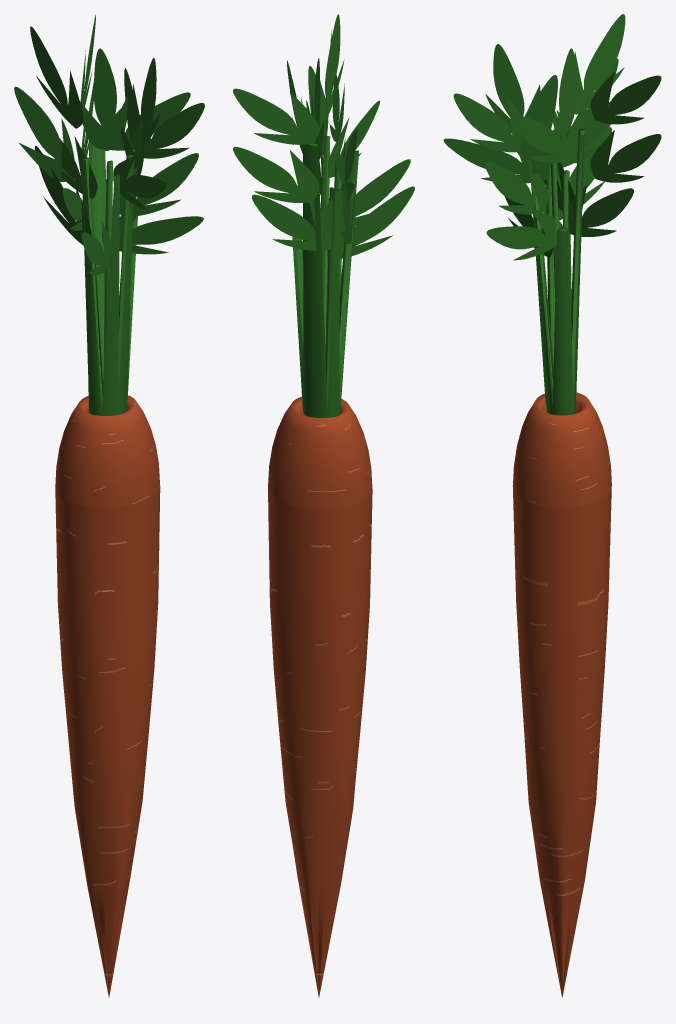
File: 紅蘿蔔往生.FBX
The picture shows the model from 3 angles, left to right: view 1: azimuth 30°, elevation 25°; view 2: azimuth 150°, elevation 25°; view 3: azimuth 270°, elevation 25°; orthographic projection.
Parts seen in each view (by area): view 1: Cone001, Cone002, Sphere001, Line020, Line022, Line019, Line037, Line024, Line025, Line017, Line016, Line039 (+6 smaller); view 2: Cone001, Cone002, Sphere001, Line031, Line032, Line033, Line042, Line043, Line016, Line017, Line037, Line020 (+2 smaller); view 3: Cone001, Sphere001, Cone002, Line031, Line032, Line019, Line037, Line021, Line025, Line024, Line016, Line018 (+5 smaller).
Boxes of the visible parts, left/top/right/bottom form: Cone001: left=55, top=485, right=160, bottom=997; Cone002: left=81, top=124, right=137, bottom=415; Sphere001: left=55, top=395, right=159, bottom=507; Line020: left=80, top=48, right=127, bottom=150; Line022: left=14, top=86, right=74, bottom=181; Line019: left=131, top=103, right=204, bottom=158; Line037: left=30, top=26, right=83, bottom=128; Line024: left=101, top=216, right=203, bottom=254; Line025: left=119, top=153, right=198, bottom=216; Line017: left=113, top=156, right=166, bottom=209; Line016: left=132, top=58, right=160, bottom=145; Line039: left=34, top=146, right=91, bottom=244; Cone001: left=268, top=489, right=372, bottom=997; Cone002: left=292, top=135, right=358, bottom=417; Sphere001: left=268, top=396, right=372, bottom=509; Line031: left=233, top=88, right=319, bottom=144; Line032: left=233, top=147, right=319, bottom=202; Line033: left=252, top=194, right=331, bottom=250; Line042: left=323, top=159, right=410, bottom=232; Line043: left=327, top=186, right=414, bottom=258; Line016: left=319, top=14, right=344, bottom=123; Line017: left=328, top=100, right=379, bottom=178; Line037: left=329, top=74, right=344, bottom=141; Line020: left=311, top=58, right=324, bottom=159; Cone001: left=512, top=485, right=611, bottom=997; Sphere001: left=513, top=392, right=611, bottom=507; Cone002: left=531, top=128, right=584, bottom=415; Line031: left=590, top=71, right=661, bottom=124; Line032: left=590, top=130, right=661, bottom=182; Line019: left=453, top=93, right=527, bottom=152; Line037: left=574, top=14, right=625, bottom=114; Line021: left=513, top=110, right=578, bottom=162; Line025: left=485, top=160, right=548, bottom=214; Line024: left=486, top=208, right=563, bottom=260; Line016: left=485, top=44, right=540, bottom=142; Line018: left=519, top=75, right=570, bottom=174.
Bounding box in the file's own units: 18.88 × 139 × 28.24.
Materials: 2 (1 with a texture image).
